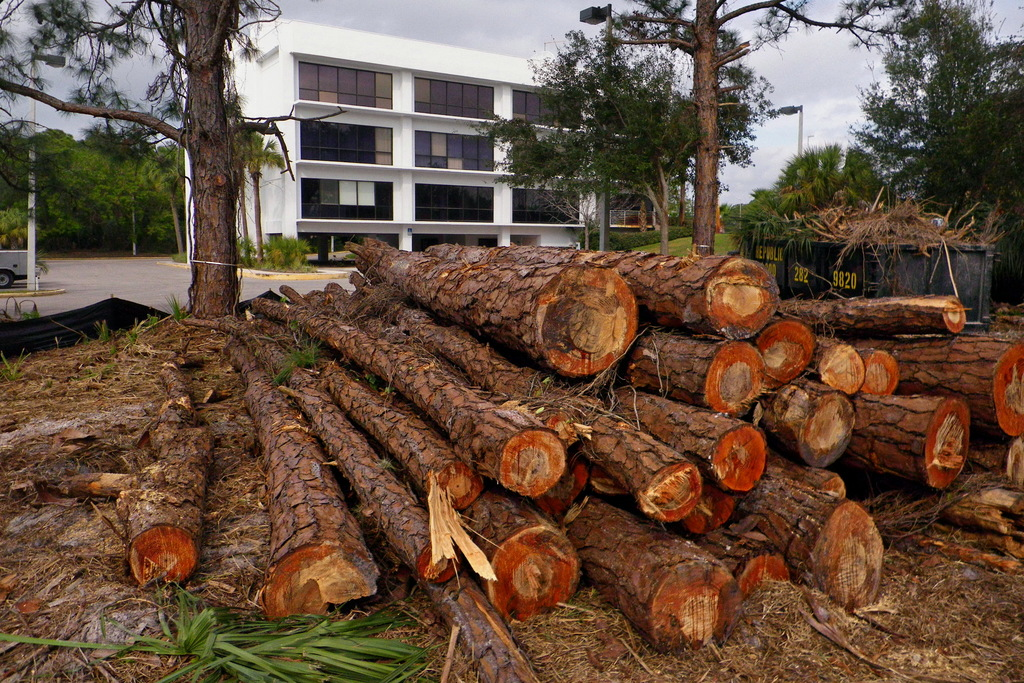Tree: (0, 0, 1024, 319)
